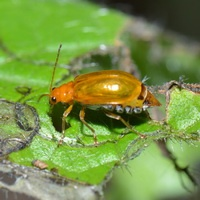insect: (34, 46, 199, 147), (38, 45, 160, 145), (81, 153, 126, 183)
